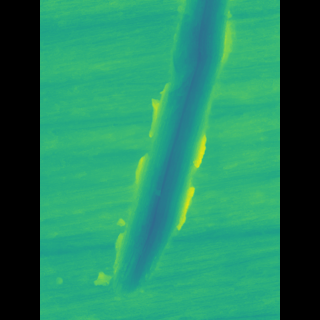Loch: (116, 0, 218, 304)
